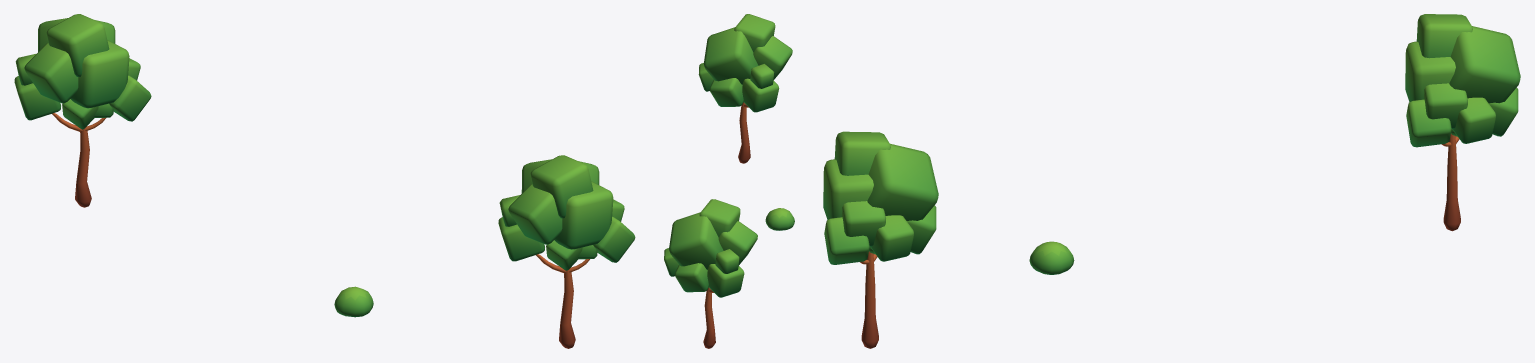
File: world+.glb
3 views of the same model, side by side, from view 1: azimuth 30°, elevation 25°; view 2: azimuth 150°, elevation 25°; view 3: azimuth 270°, elevation 25° (orthographic). The views are drawn at different scales.
Visible parts, largest first — view 1: Tree_2_D_Color1.001, Tree_2_D_Color1, Bush_1_D_Color1; view 2: Tree_2_D_Color1, Tree_2_D_Color1.001, Bush_1_D_Color1; view 3: Tree_2_D_Color1.001, Tree_2_D_Color1, Bush_1_D_Color1.
Boxes of the visible parts, x1,y1,x2,y2 form: Tree_2_D_Color1.001: (498,155,635,348); Tree_2_D_Color1: (14,14,151,207); Bush_1_D_Color1: (334,286,373,317); Tree_2_D_Color1: (664,199,757,348); Tree_2_D_Color1.001: (698,14,792,163); Bush_1_D_Color1: (765,208,794,230); Tree_2_D_Color1.001: (823,131,938,348); Tree_2_D_Color1: (1405,14,1520,231); Bush_1_D_Color1: (1029,241,1074,274).
Size of what is drawn, in the model's own units: 14.42 by 8.11 by 24.36.
Materials: 3 (3 with a texture image).
